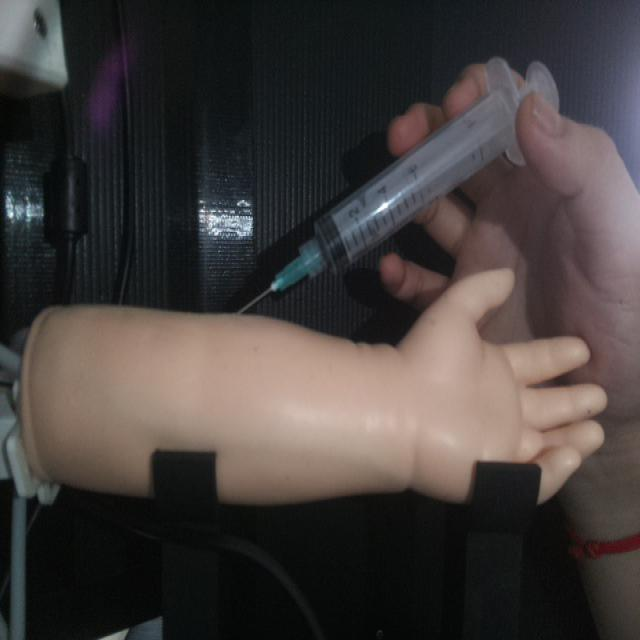Outside: (232, 53, 561, 315)
